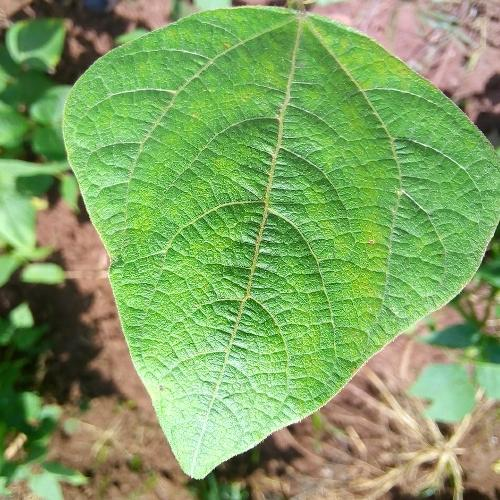hawar: (105, 72, 389, 346)
